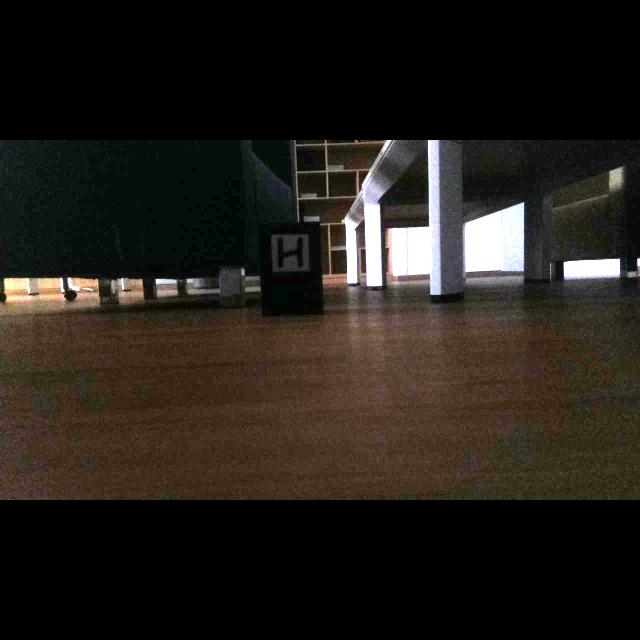H: (278, 237, 304, 269)
